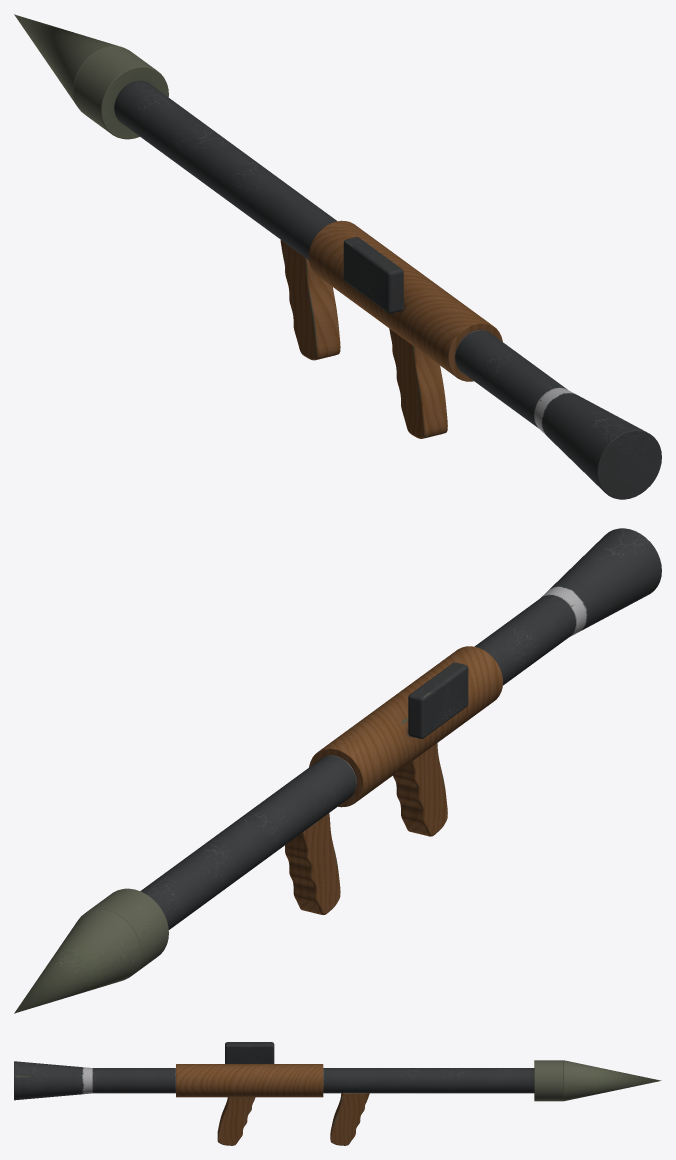
Rendered from rpg7.gltf.
3 renders of one model, top to bottom at view 1: azimuth 30°, elevation 25°; view 2: azimuth 150°, elevation 25°; view 3: azimuth 270°, elevation 25°, orthographic. The views are drawn at different scales.
Visible parts, largest first — view 1: Frame, Mag_body; view 2: Frame, Mag_body; view 3: Frame, Mag_body.
Boxes of the visible parts, left/top/right/bottom form: Frame: left=114, top=80, right=661, bottom=499; Mag_body: left=14, top=14, right=168, bottom=139; Frame: left=140, top=528, right=661, bottom=929; Mag_body: left=14, top=888, right=168, bottom=1013; Frame: left=14, top=1042, right=534, bottom=1145; Mag_body: left=534, top=1060, right=661, bottom=1101.
Bounding box in the file's own units: 0.092 × 0.2052 × 1.32.
4 materials, 4 textured.
